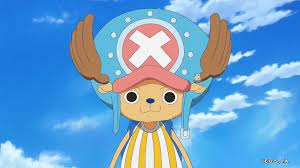chopper: (66, 6, 234, 141)
